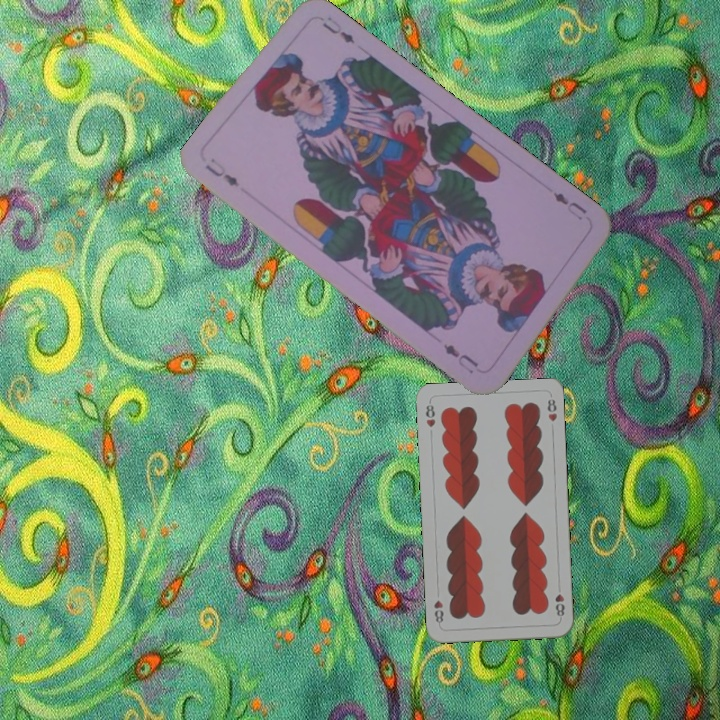EU: (549, 188, 590, 223), (201, 158, 243, 190)
H8: (551, 581, 567, 622), (422, 398, 438, 430)
